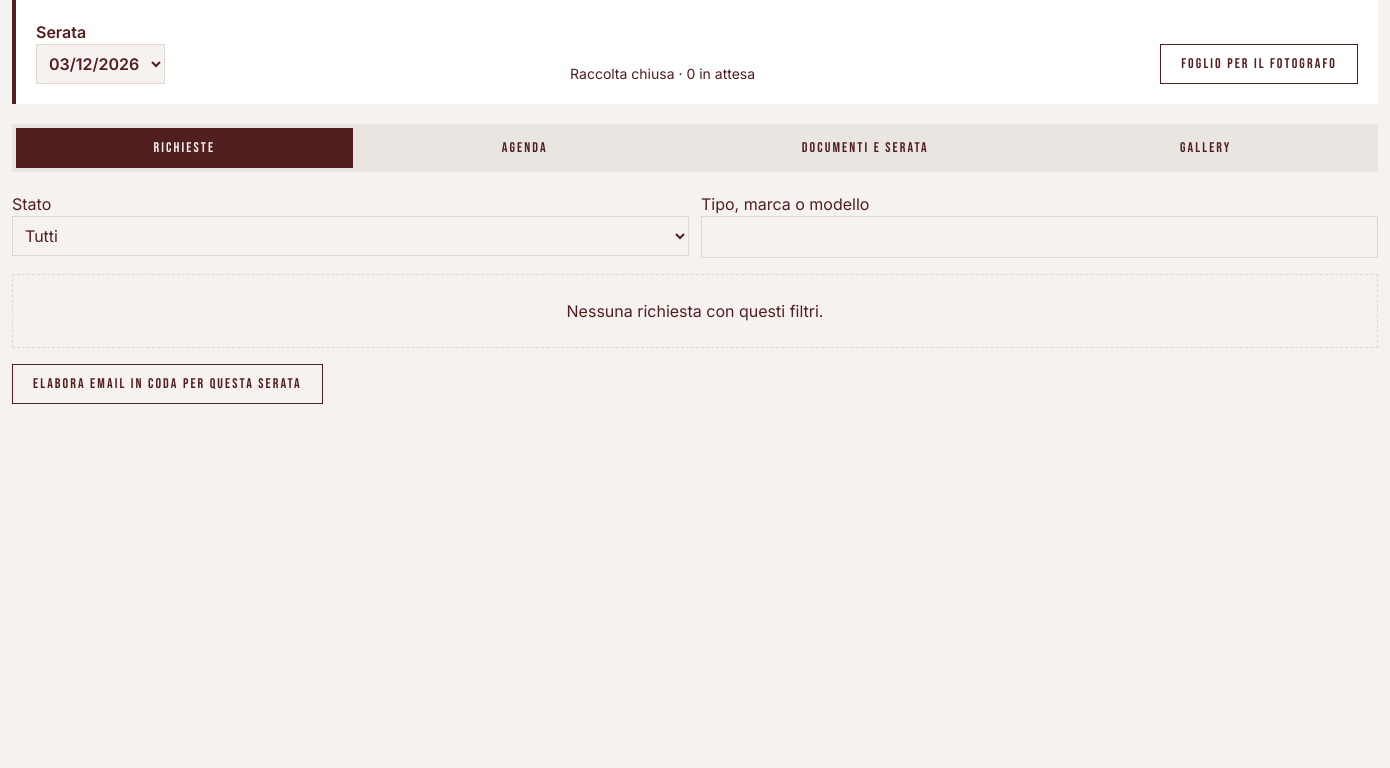
Test: genera gli intervalli della serata selezionata solo se rientrano nella fascia
This screenshot has width=1390, height=768.
Click the button with aria-label "Shooting · Agenda": click(525, 148) [356, 128, 693, 168]
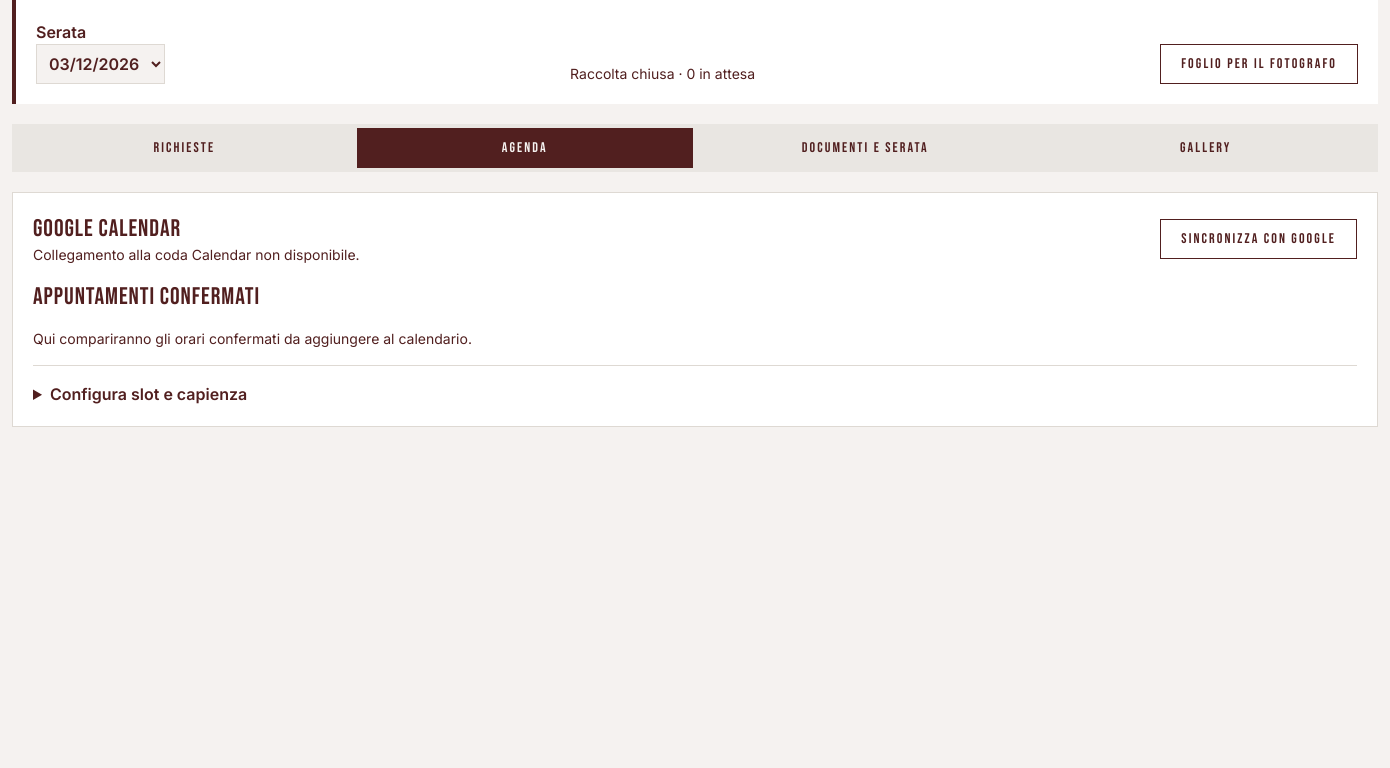
Click the heading "Configura slot e capienza": click(149, 394) [50, 384, 247, 404]
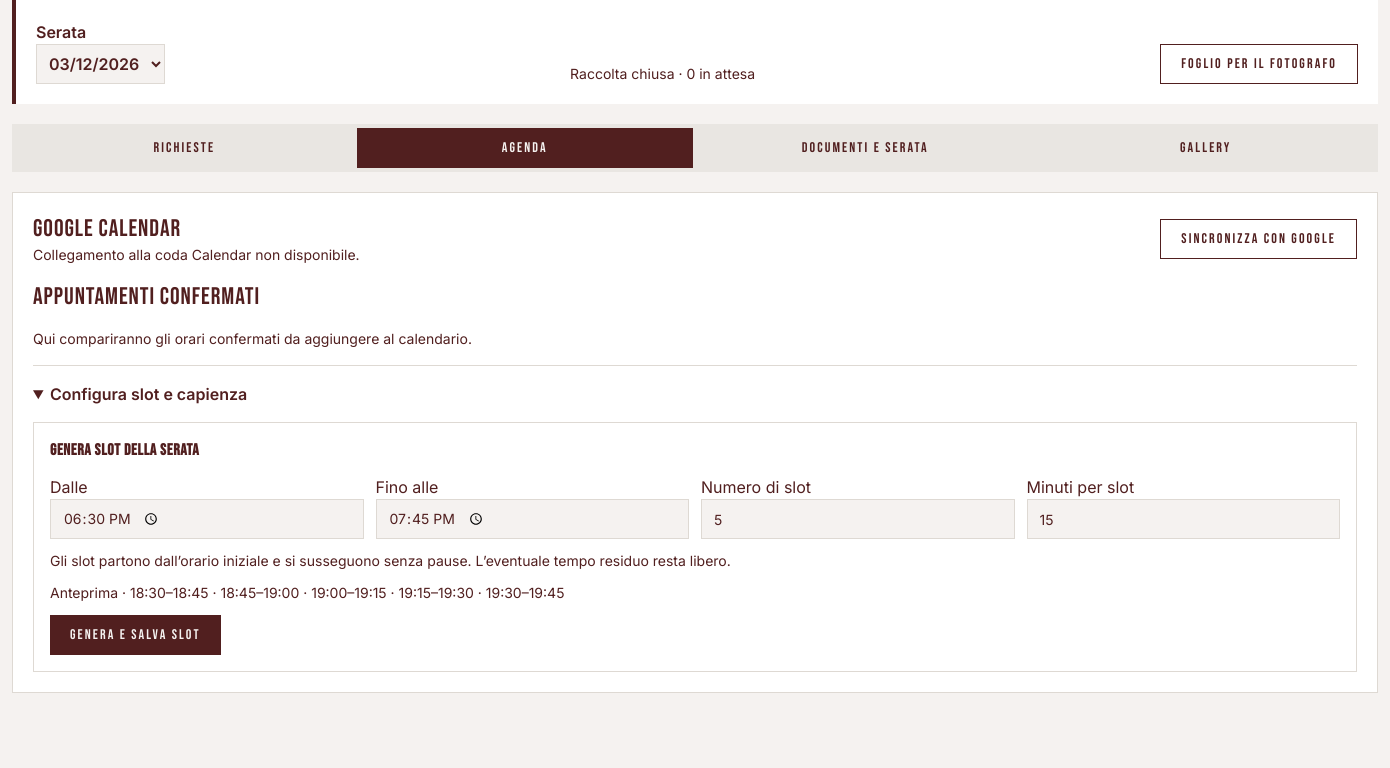
Replace the text in the number field labelled "Minuti per slot" with "20": (1183, 519) [1026, 499, 1340, 539]
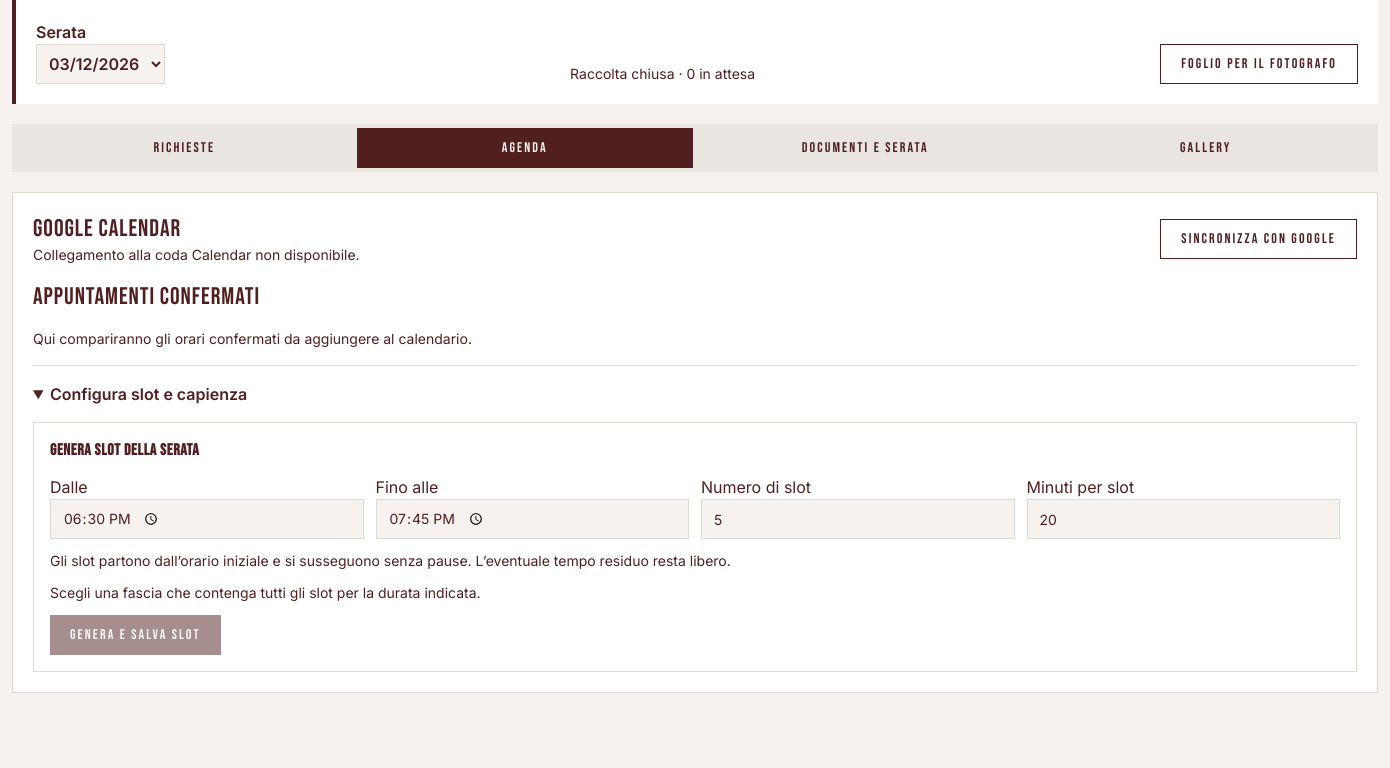
Check: the button "Genera e salva slot" is disabled, box [50, 615, 221, 655]
Replace the text in the number field labelled "Numero di slot" with "3": (858, 519) [701, 499, 1014, 539]
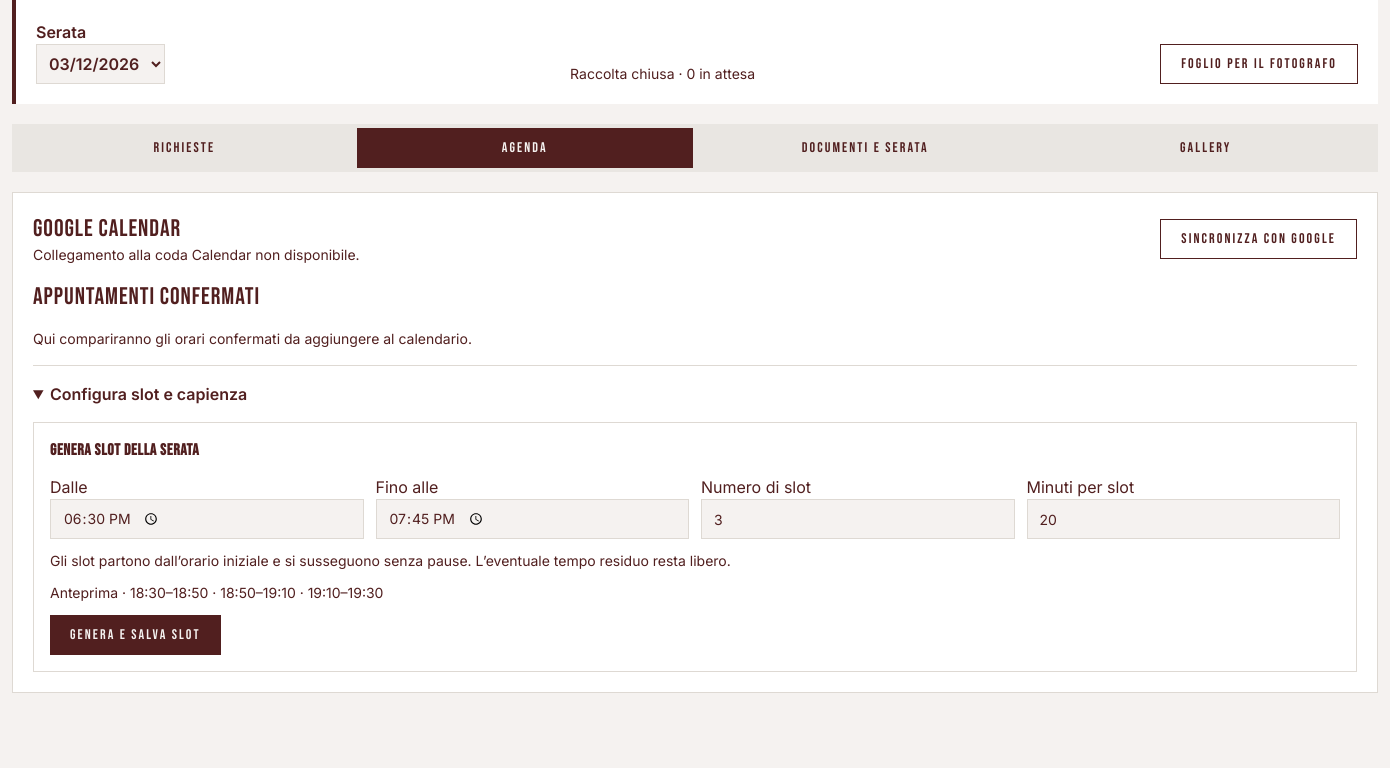
Check: the text "Anteprima · 18:30–18:50 · 18:50–19:10 · 19:10–19:30" is shown, box [50, 584, 384, 601]
Click the button "Genera e salva slot": click(135, 635) [50, 615, 221, 655]
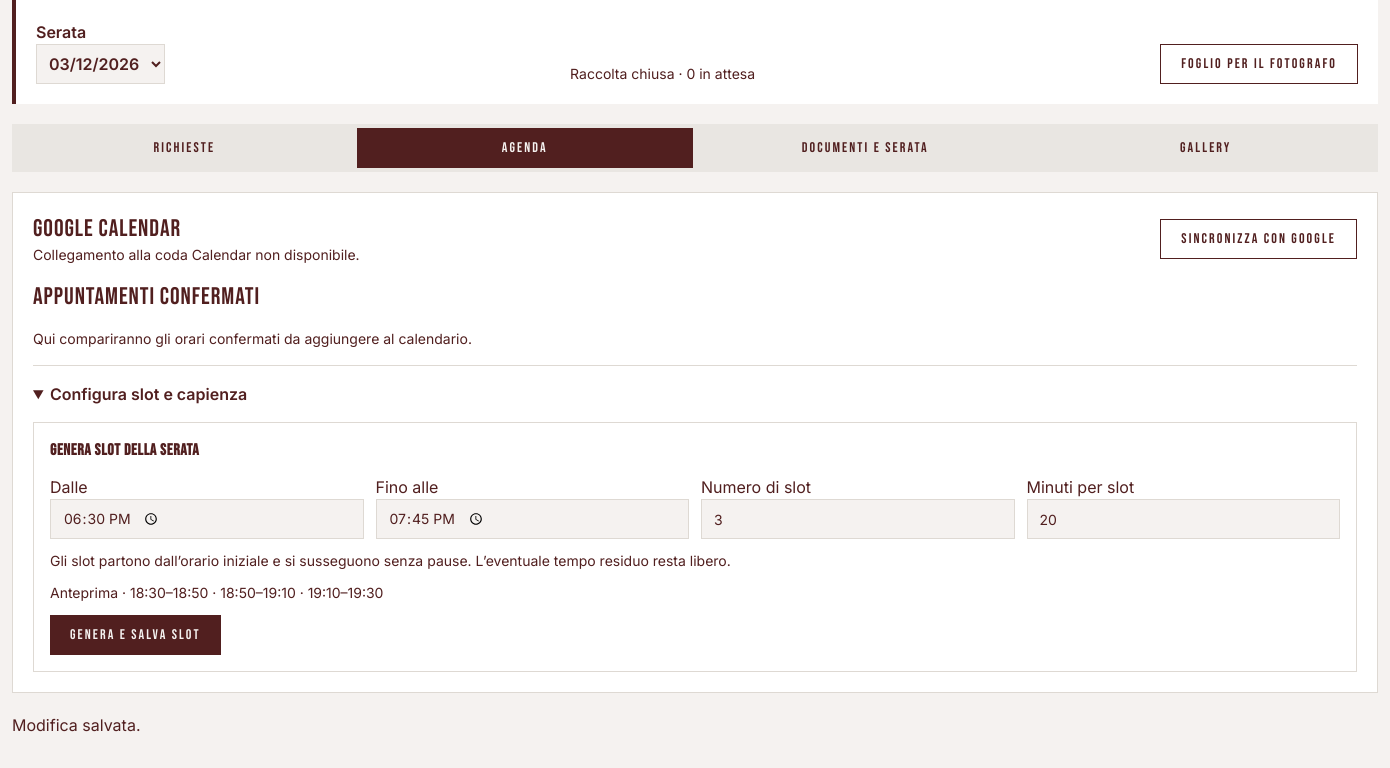
Check: the text "Modifica salvata." is shown, box [12, 715, 140, 735]
